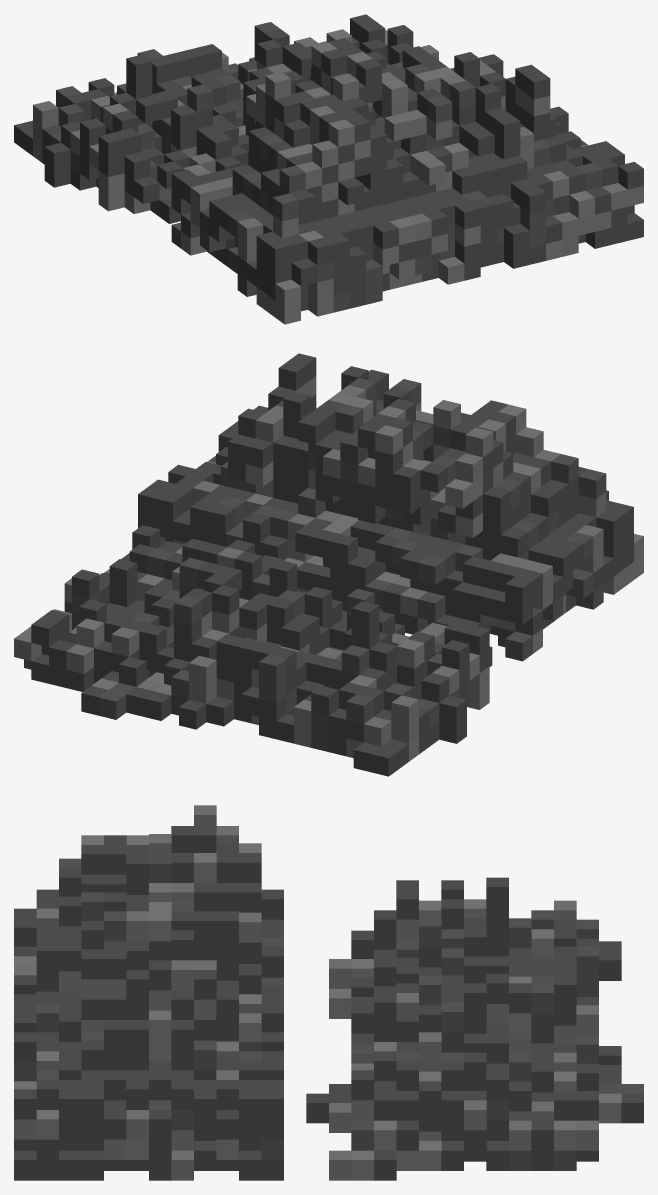
The model's file is Tombstones-4-BrokenSarcoph2.obj.
The picture shows the model from 3 angles, top to bottom: view 1: azimuth 30°, elevation 25°; view 2: azimuth 150°, elevation 25°; view 3: azimuth 270°, elevation 25°; orthographic projection. The views are drawn at different scales.
Parts seen in each view (by area): view 1: BrokenSarcoph2; view 2: BrokenSarcoph2; view 3: BrokenSarcoph2.
Boxes of the visible parts, <box> form: BrokenSarcoph2: <box>14,14,643,324</box>; BrokenSarcoph2: <box>14,353,643,776</box>; BrokenSarcoph2: <box>14,805,643,1180</box>.
Bounding box in the file's own units: 2.4 × 1 × 2.8.
1 material, 1 textured.
